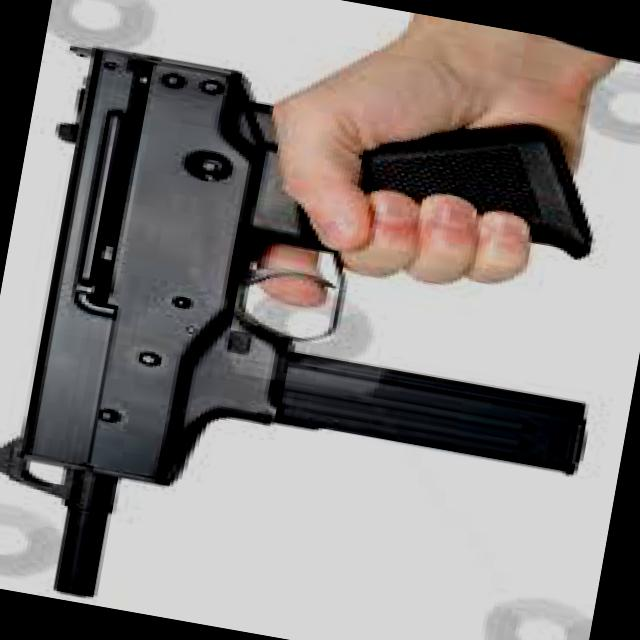handgun: (0, 19, 631, 592)
